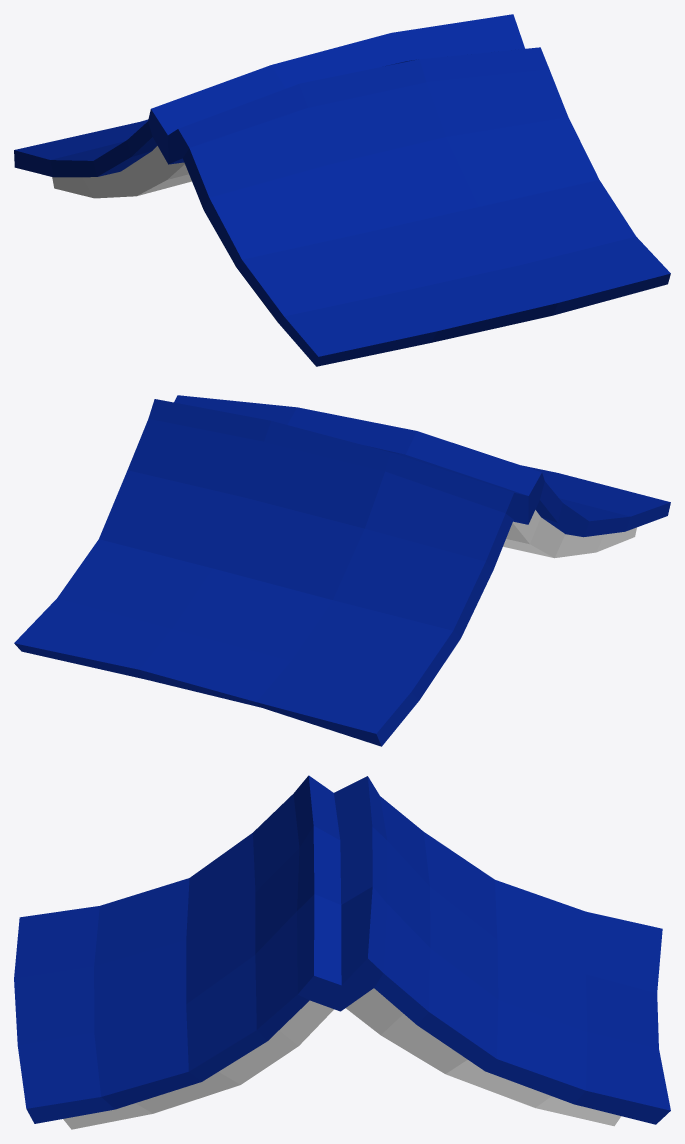
File: book_face_down.fbx
3 renders of one model, top to bottom at view 1: azimuth 30°, elevation 25°; view 2: azimuth 150°, elevation 25°; view 3: azimuth 270°, elevation 25°, orthographic. The views are drawn at different scales.
Visible parts, largest first — view 1: books.001; view 2: books.001; view 3: books.001.
Boxes of the visible parts, x1,y1,x2,y2 form: books.001: (14, 14, 670, 366); books.001: (14, 395, 670, 746); books.001: (14, 775, 670, 1129).
Bounding box in the file's own units: 35.96 × 17.27 × 52.14.
